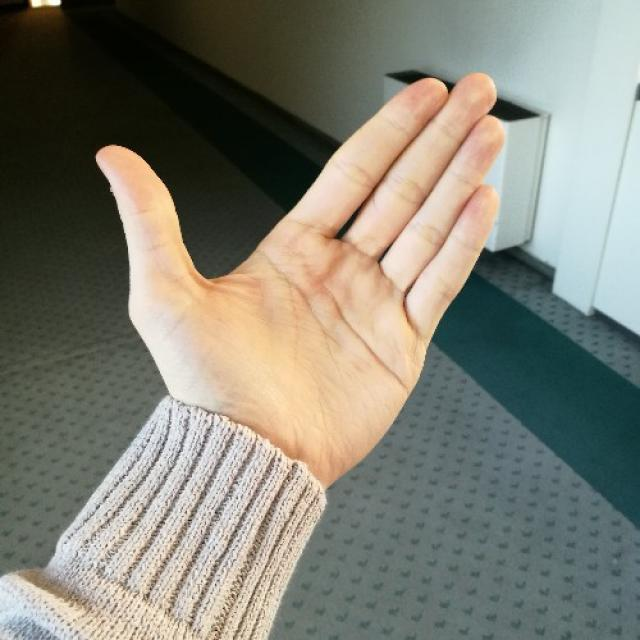paper: (96, 70, 506, 457)
